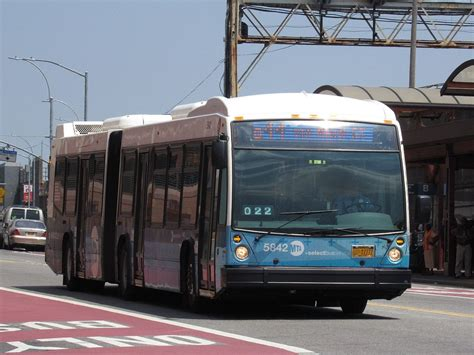bus: (49, 120, 404, 315)
